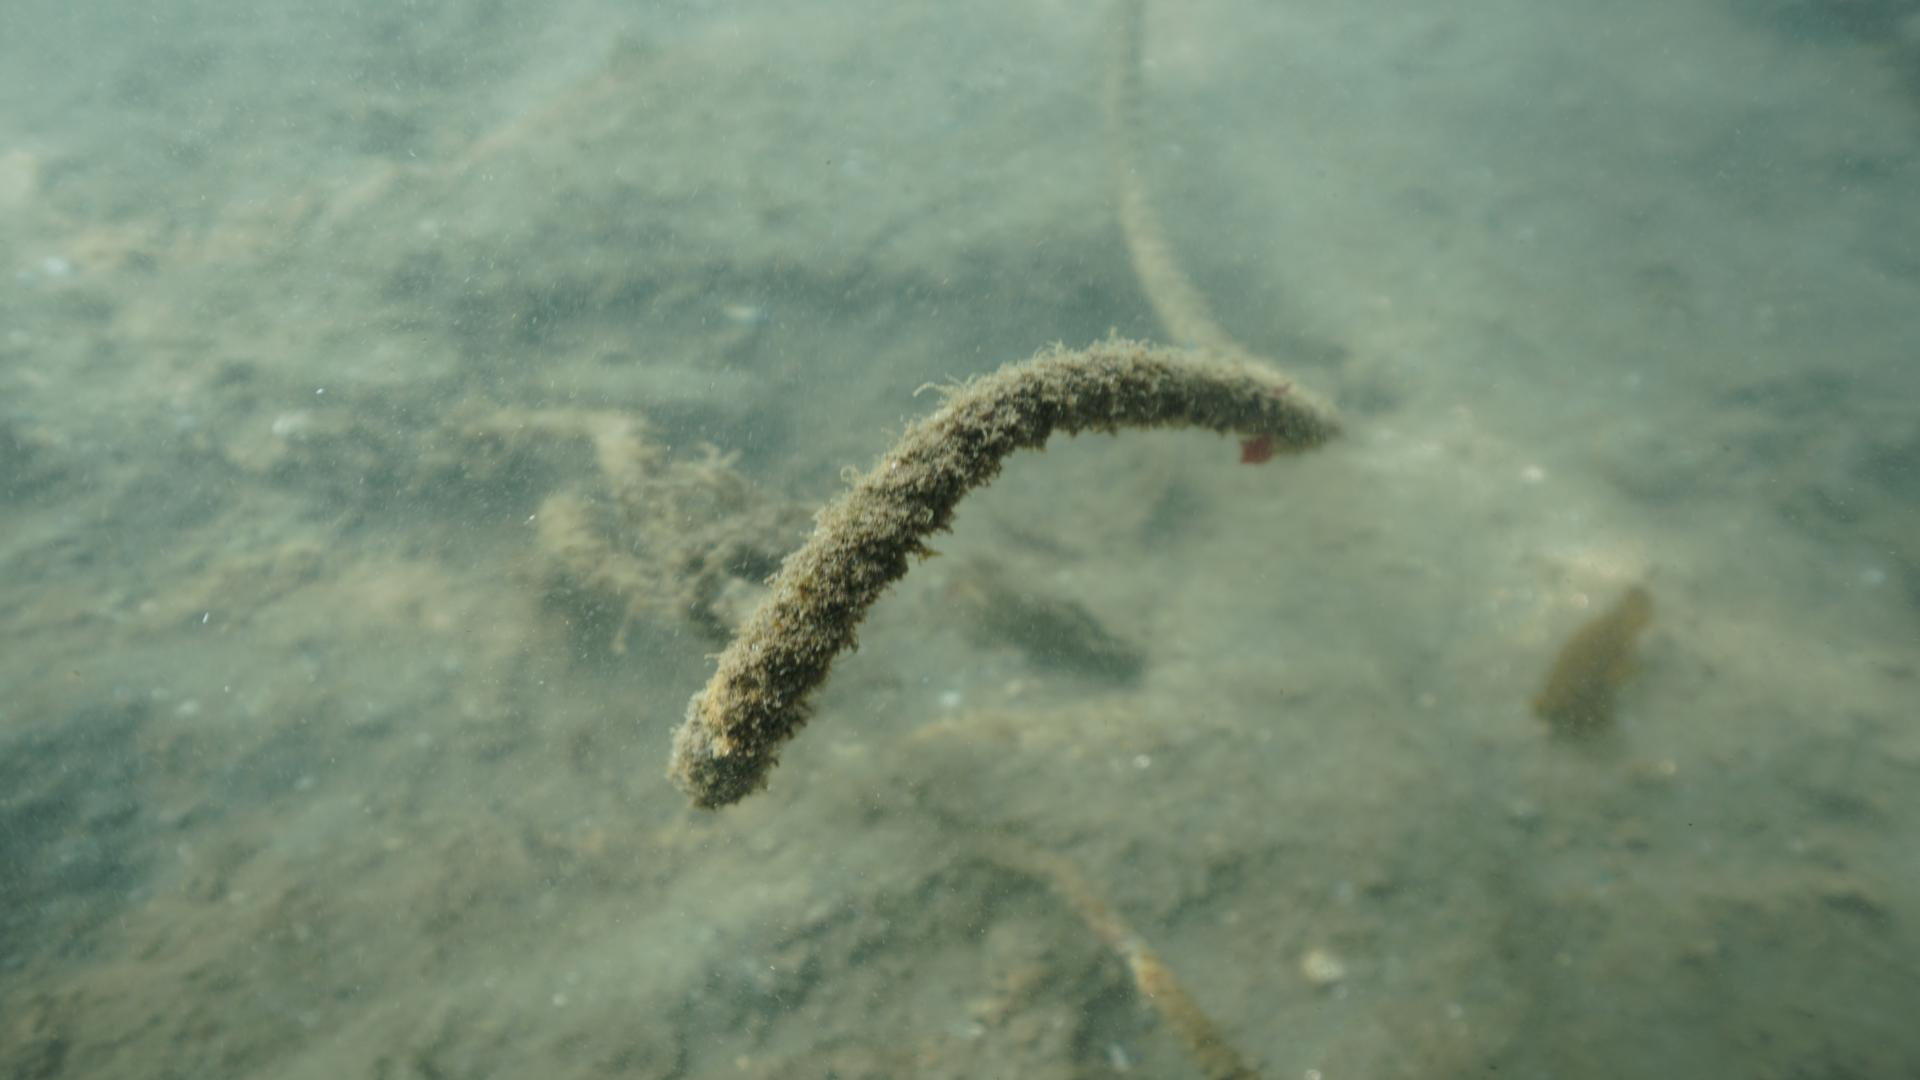rope: (670, 0, 1342, 800)
